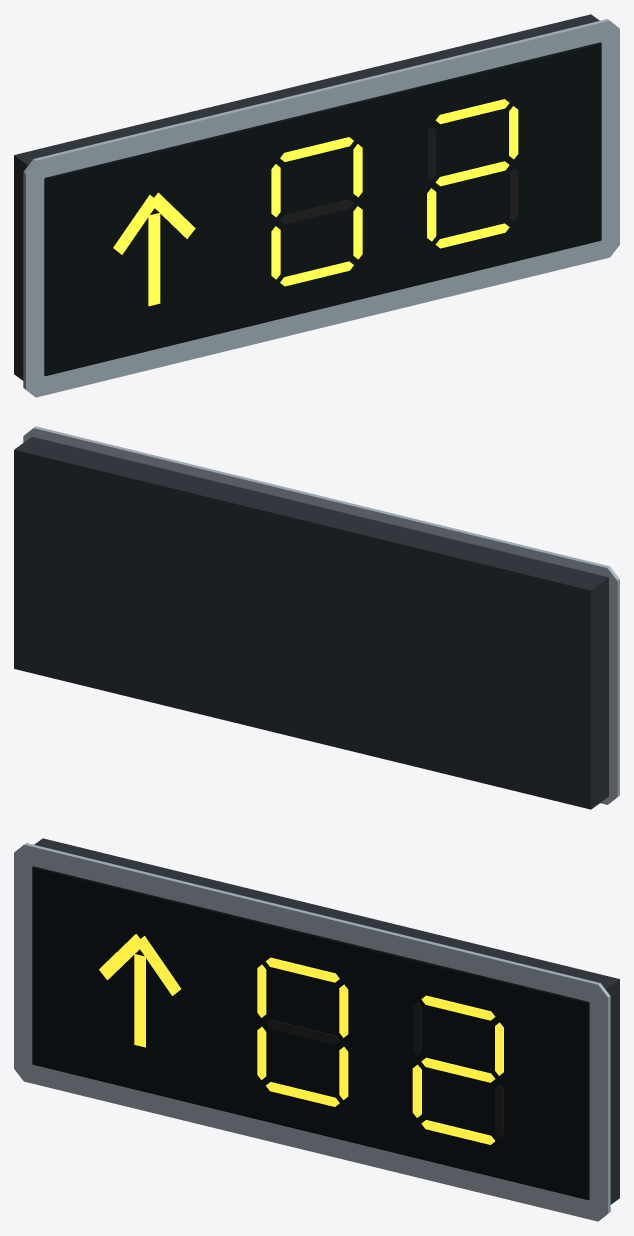
3 views of the same model, one above another, from view 1: azimuth 30°, elevation 25°; view 2: azimuth 150°, elevation 25°; view 3: azimuth 330°, elevation 25° (orthographic).
Parts seen in each view (by area): view 1: MODULE_DarkFace, MODULE_MetalBezel, MODULE_Housing, SEGMENT_Arrow_Shaft, SEGMENT_Arrow_Left, SEGMENT_Digit0_g, SEGMENT_Digit1_a, SEGMENT_Digit1_d, SEGMENT_Digit1_g, SEGMENT_Digit0_a, SEGMENT_Digit0_d, SEGMENT_Arrow_Right; view 2: MODULE_Housing, MODULE_MetalBezel; view 3: MODULE_DarkFace, MODULE_MetalBezel, MODULE_Housing, SEGMENT_Arrow_Shaft, SEGMENT_Arrow_Right, SEGMENT_Arrow_Left, SEGMENT_Digit1_a, SEGMENT_Digit0_d, SEGMENT_Digit0_a, SEGMENT_Digit0_g, SEGMENT_Digit1_g, SEGMENT_Digit1_d.
Boxes of the visible parts, box(x1,y1,x2,y2) form: MODULE_DarkFace: box(44, 42, 601, 375); MODULE_MetalBezel: box(23, 19, 619, 397); MODULE_Housing: box(14, 14, 599, 380); SEGMENT_Arrow_Shaft: box(148, 213, 160, 306); SEGMENT_Arrow_Left: box(113, 195, 158, 254); SEGMENT_Digit0_g: box(280, 199, 353, 224); SEGMENT_Digit1_a: box(435, 99, 509, 123); SEGMENT_Digit1_d: box(435, 223, 509, 248); SEGMENT_Digit1_g: box(435, 161, 509, 186); SEGMENT_Digit0_a: box(280, 137, 353, 161); SEGMENT_Digit0_d: box(280, 261, 353, 286); SEGMENT_Arrow_Right: box(154, 192, 195, 238); MODULE_Housing: box(14, 436, 608, 809); MODULE_MetalBezel: box(23, 426, 619, 804); MODULE_DarkFace: box(32, 866, 589, 1199); MODULE_MetalBezel: box(14, 843, 610, 1221); MODULE_Housing: box(34, 838, 619, 1204); SEGMENT_Arrow_Shaft: box(134, 954, 145, 1047); SEGMENT_Arrow_Right: box(136, 936, 180, 995); SEGMENT_Arrow_Left: box(99, 934, 143, 980); SEGMENT_Digit1_a: box(421, 995, 495, 1020); SEGMENT_Digit0_d: box(266, 1082, 339, 1106); SEGMENT_Digit0_a: box(266, 957, 339, 982); SEGMENT_Digit0_g: box(266, 1019, 339, 1044); SEGMENT_Digit1_g: box(421, 1057, 494, 1082); SEGMENT_Digit1_d: box(421, 1120, 494, 1144).
Size of the model in its own units: 0.42 by 0.16 by 0.0268.
